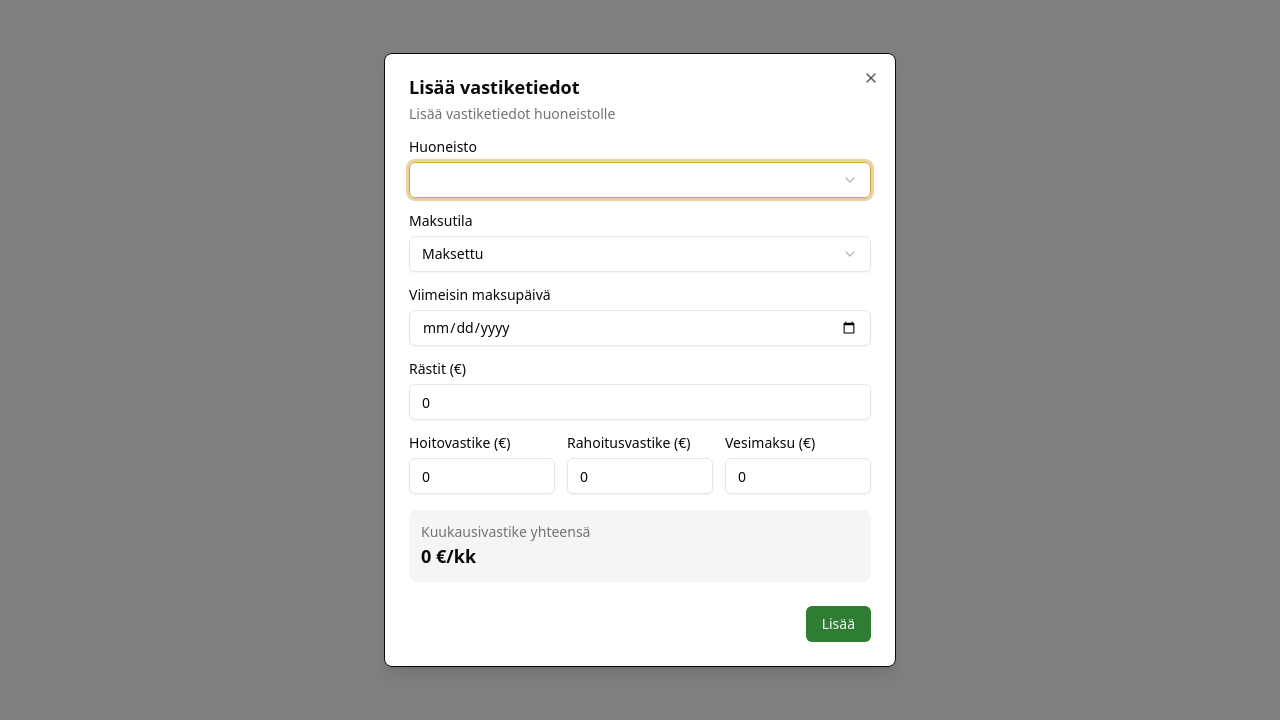
Test case: PaymentFormDialog › shows apartment required validation when submitting without apartment in create mode
# Fill date but not apartment
Clear the date field labelled "Viimeisin maksupäivä" at (640, 328), box [409, 310, 871, 346]
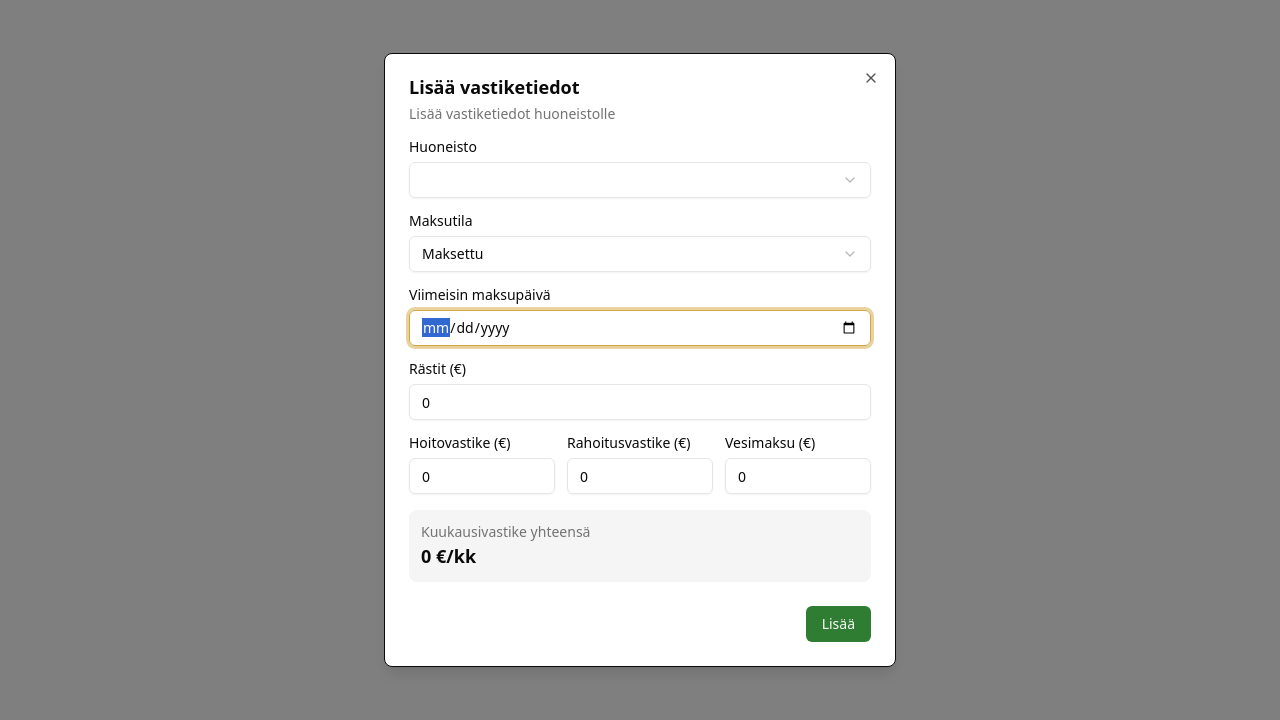
Type keys "2026-02-01"
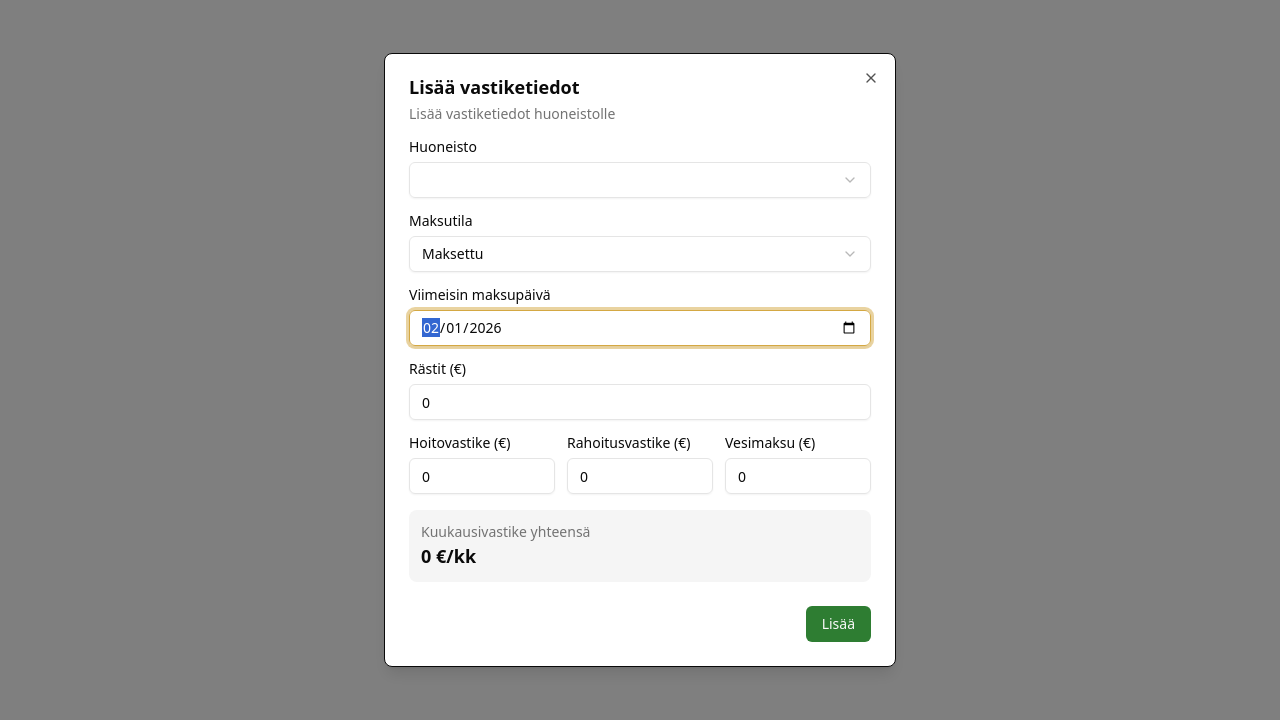
Click the button "Lisää".
click(838, 624)  # box [806, 606, 871, 642]
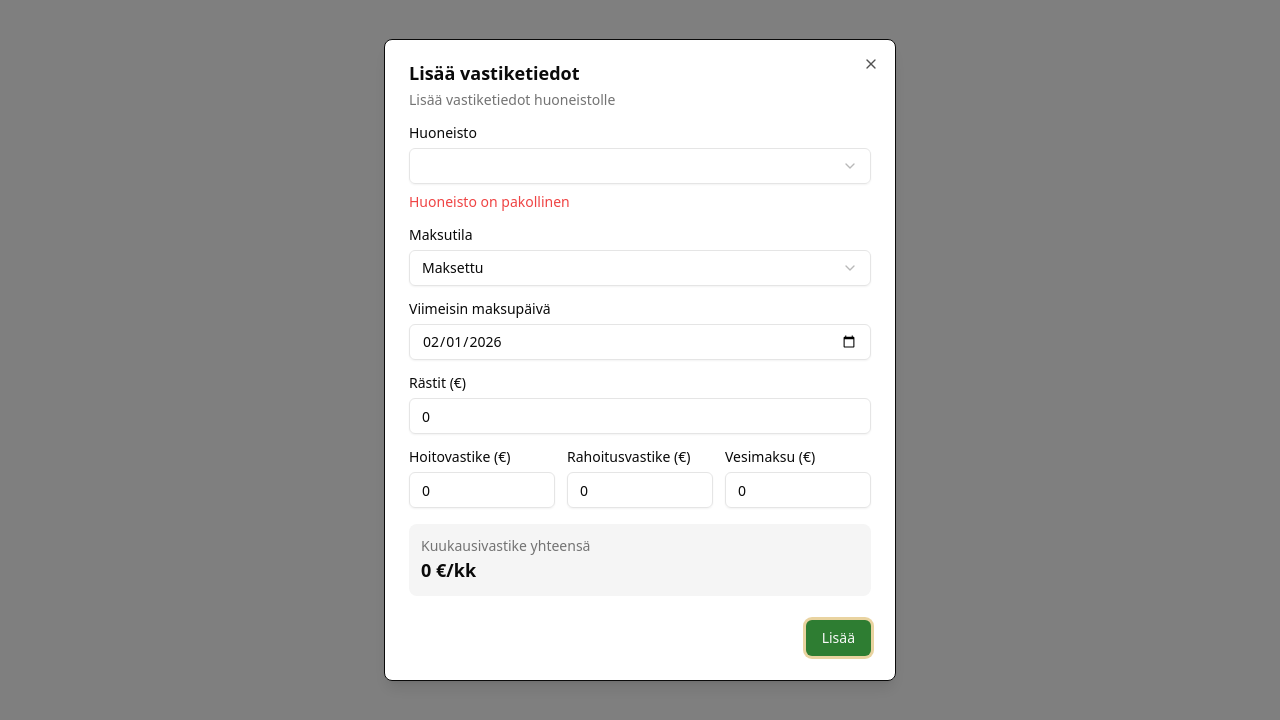
Expected: the text "Huoneisto on pakollinen" is shown, [409, 192, 570, 211]
